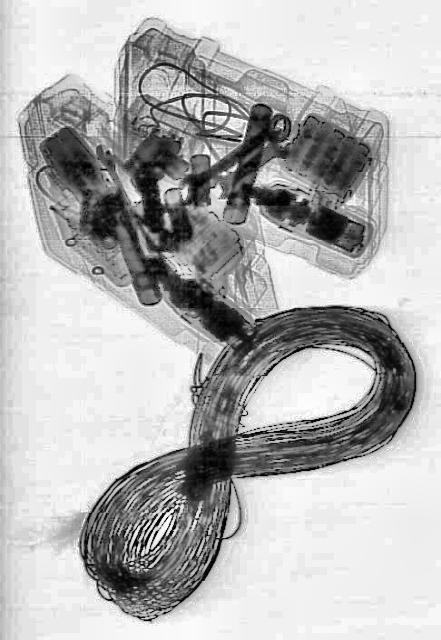Wrench: (175, 104, 295, 208), (93, 138, 162, 252), (210, 122, 296, 204)
